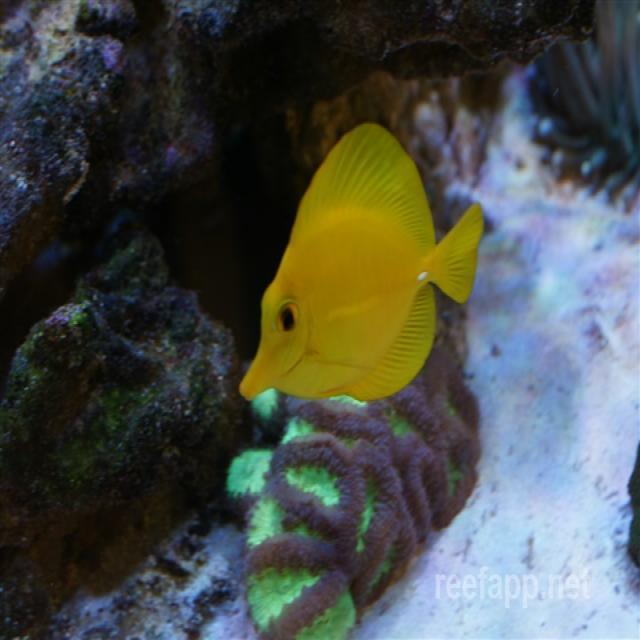TangFish: (233, 113, 486, 403)
